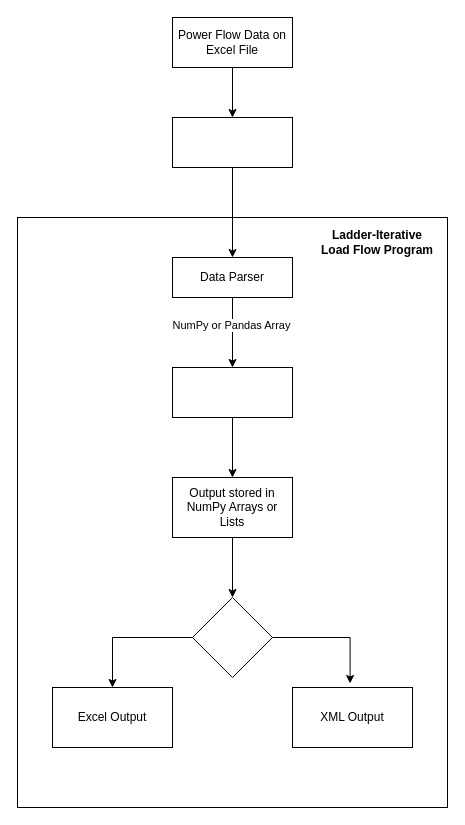
The diagram is 465 pixels wide and 825 high, and some of its shapes have lost their labels. Each missing label, with the centre of its shape:
"Ladder-Iterative Calculation Engine" goes at point 232,392.
"Output Format" goes at point 232,637.
"Python GUI" goes at point 232,142.
